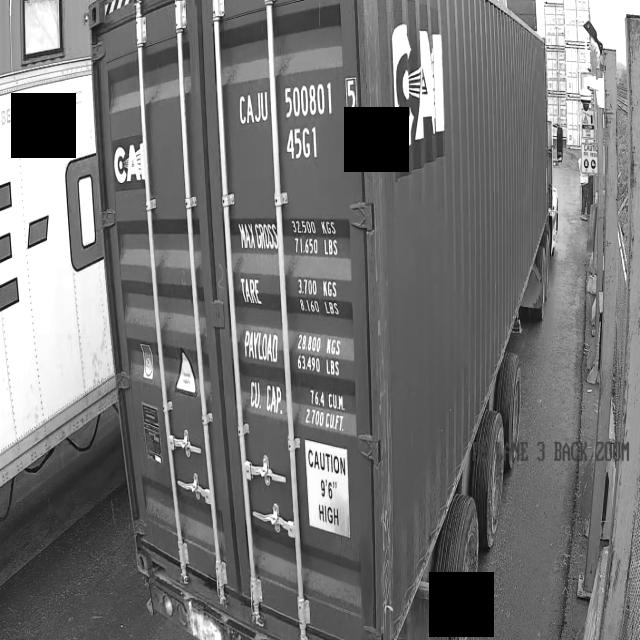container_company_logo: (386, 0, 451, 190), (111, 142, 150, 189)
container_number: (236, 76, 362, 169)
other_container_info: (232, 207, 357, 448)
truck_without_container: (89, 0, 559, 640)
